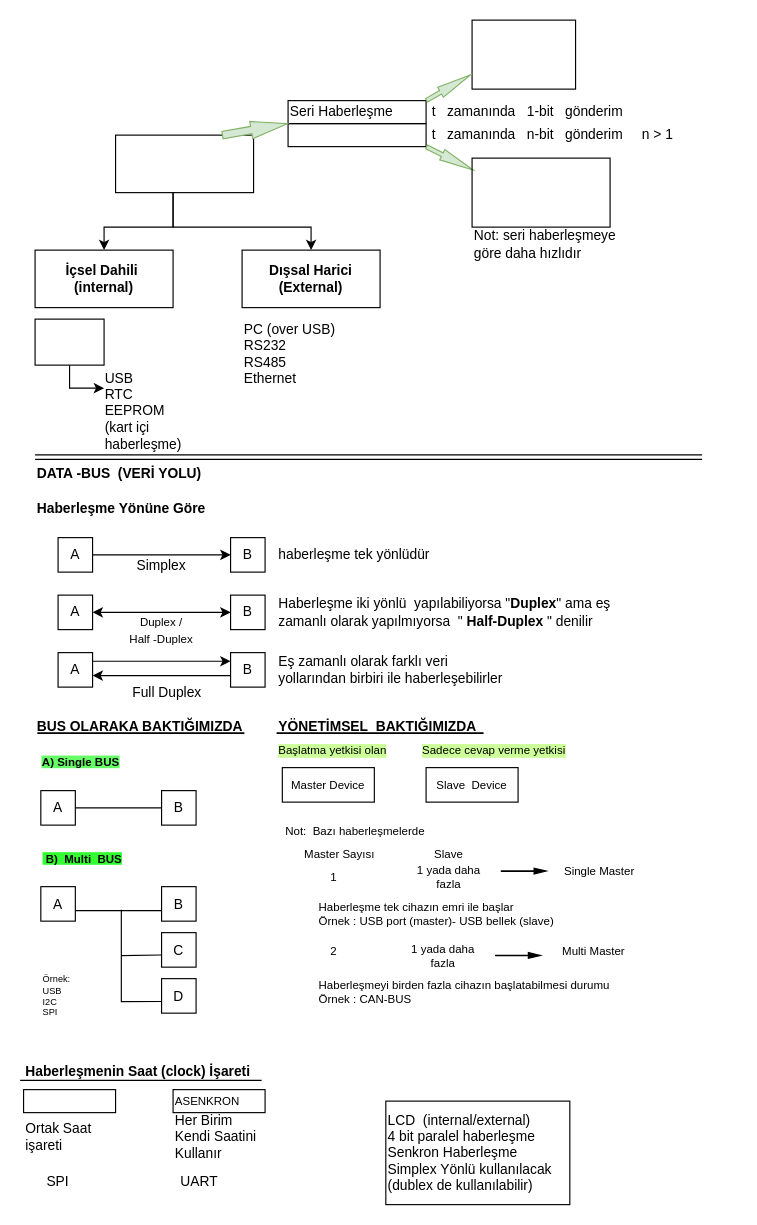
Some shapes in this 757 by 1225 pixel diagram are drawn without their labels. Each missing label, with the centre of its shape:
HABERLEŞME: (x=184, y=163)
MCU: (x=69, y=341)
Paralel Haberleşme: (x=356, y=134)
SDIO HD44780 Memory Contrroller: (x=540, y=192)
SENKRON: (x=69, y=1100)
USART / UART SPI I2C 1-Wire: (x=523, y=54)
